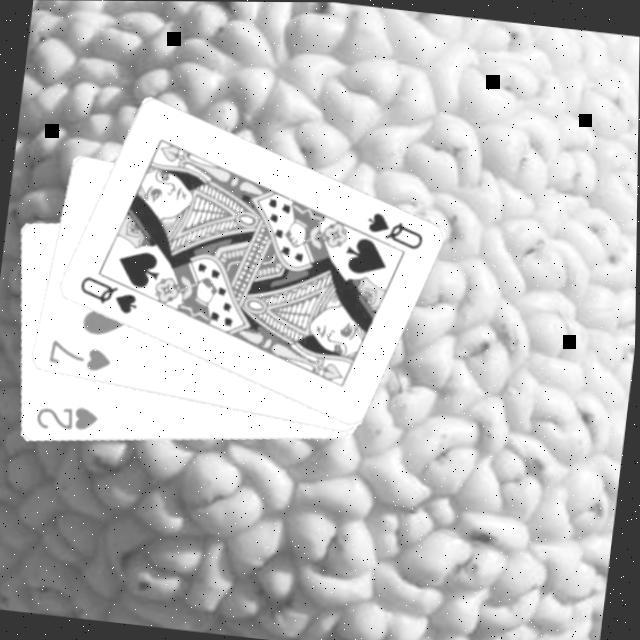2H: (32, 397, 103, 437)
7H: (46, 335, 118, 374)
QS: (74, 270, 144, 317), (360, 206, 430, 252)
